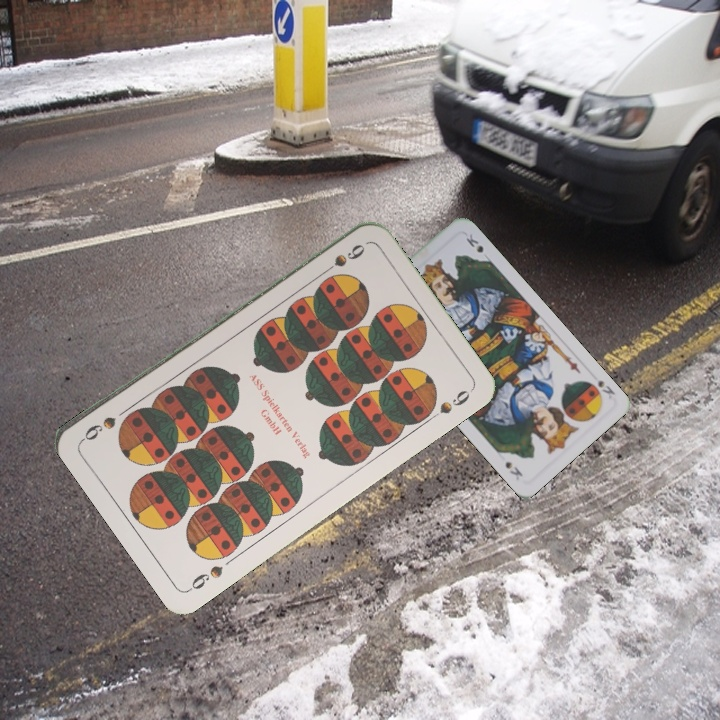S9: (316, 240, 368, 279), (184, 561, 226, 594)
SK: (594, 376, 618, 402)
